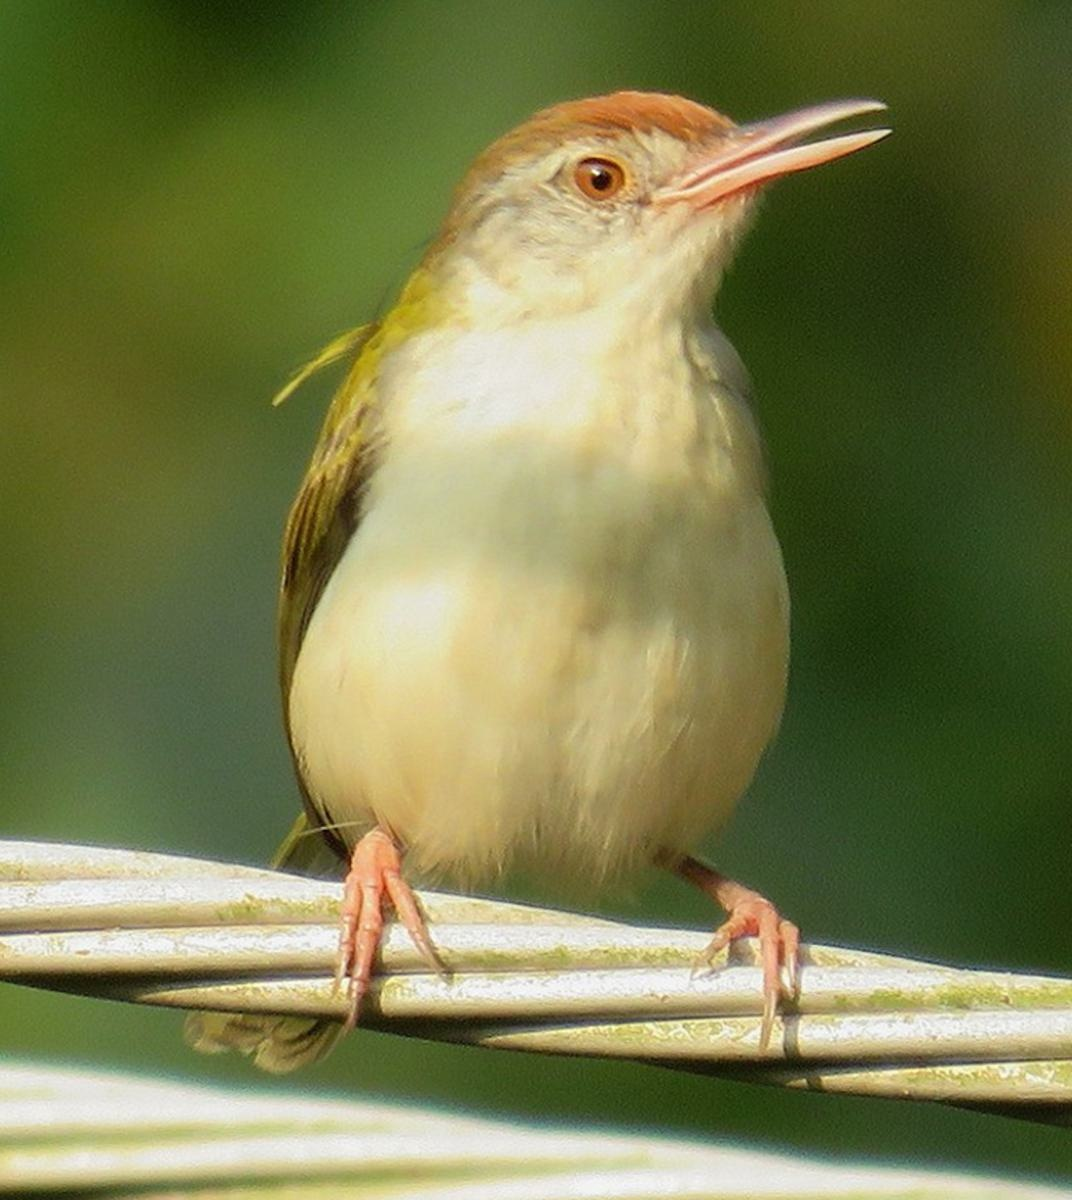tailorbird: (229, 57, 935, 1082)
